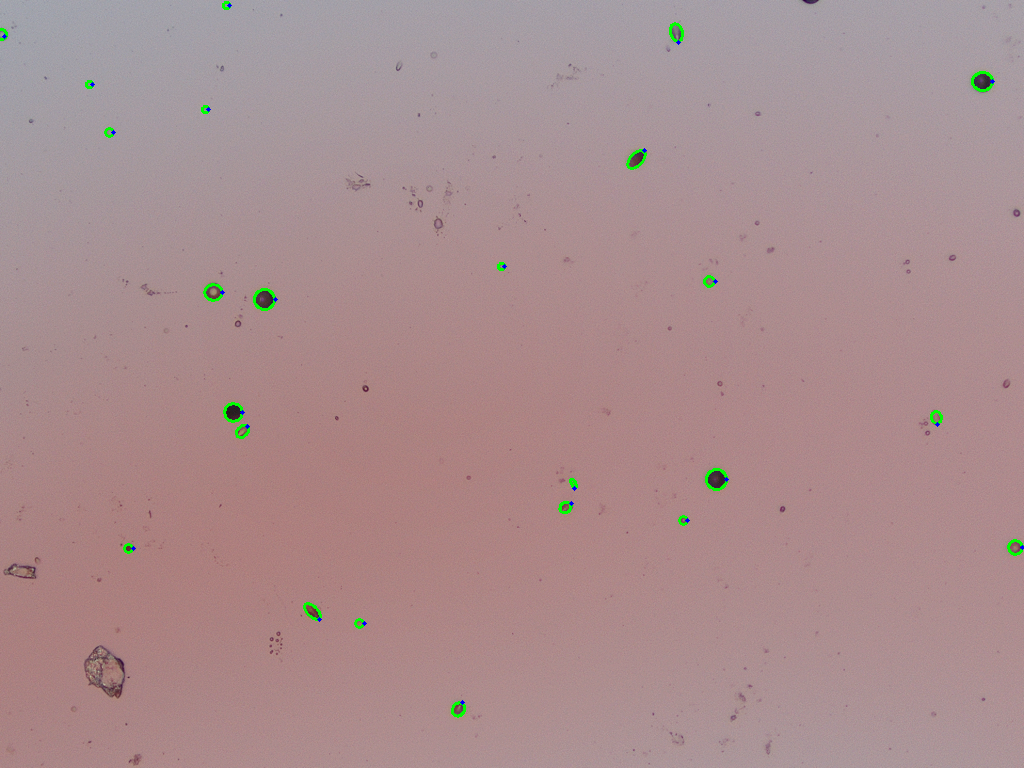circle: (253, 288, 275, 310), (706, 469, 726, 489), (972, 71, 992, 91), (204, 283, 222, 301), (1008, 540, 1022, 554), (704, 276, 715, 287), (123, 543, 133, 553), (355, 619, 364, 628), (104, 127, 113, 136), (679, 515, 687, 524), (201, 106, 208, 113), (222, 1, 229, 8), (498, 262, 504, 269), (86, 81, 92, 87)
ellipse: (627, 148, 646, 169), (225, 403, 242, 422), (304, 603, 319, 620), (670, 23, 683, 42), (452, 702, 465, 716), (931, 409, 941, 425), (236, 425, 248, 438), (569, 477, 576, 488)
